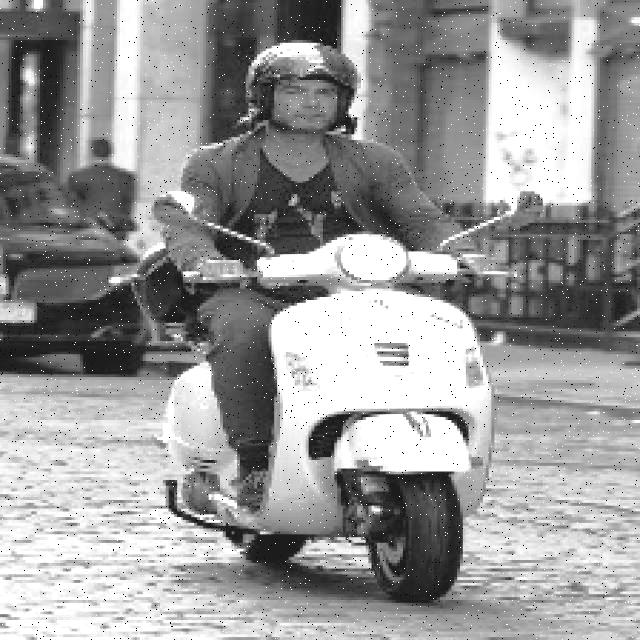Bike: (176, 259, 516, 603)
